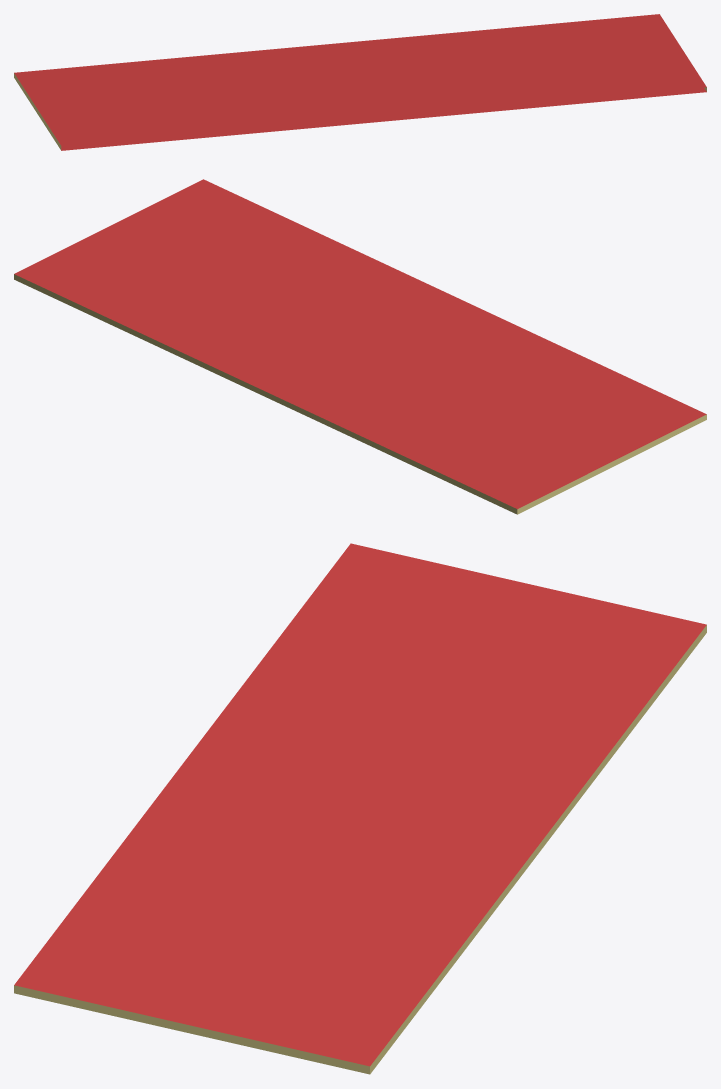
3 renders of one model, top to bottom at view 1: azimuth 30°, elevation 25°; view 2: azimuth 150°, elevation 25°; view 3: azimuth 270°, elevation 25°, orthographic. The views are drawn at different scales.
Size of the model in its own units: 12.98 by 7.75 by 0.504.
